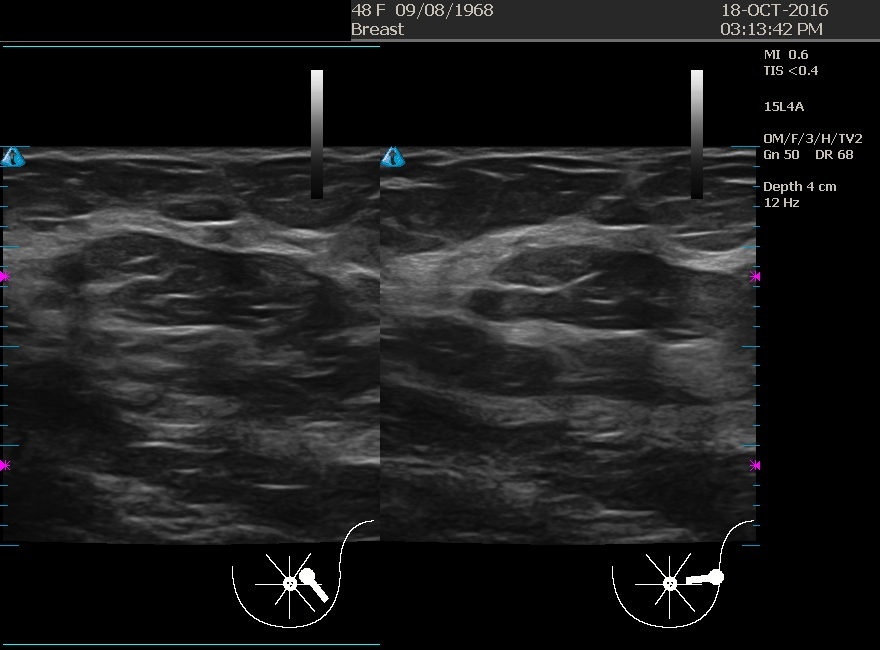BIRADS_3: (452, 220, 652, 420)
Benign: (90, 192, 290, 392)
